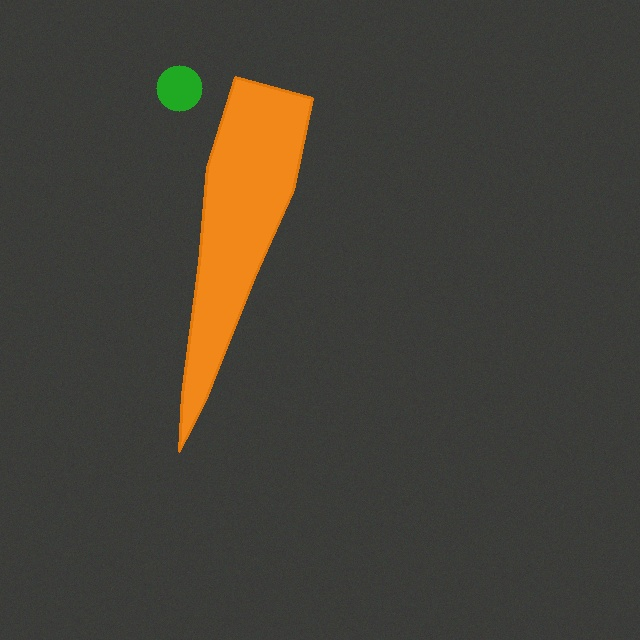Good_Carrot: (171, 69, 320, 459)
